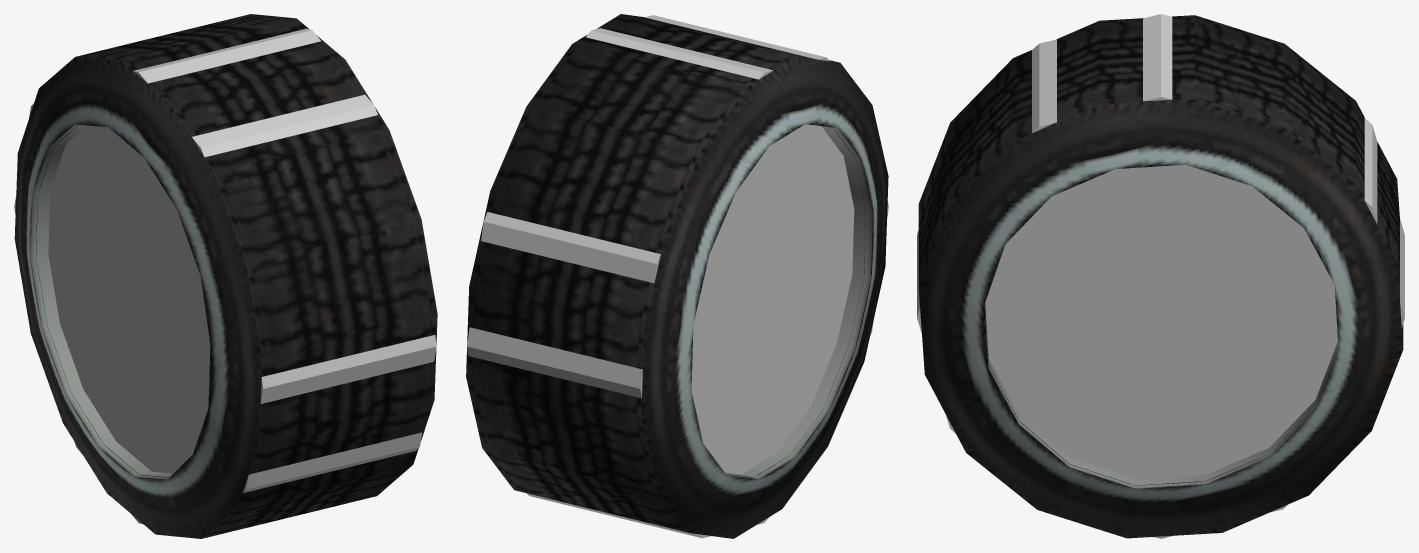
File: tire_12_out.glb
The picture shows the model from 3 angles, left to right: view 1: azimuth 30°, elevation 25°; view 2: azimuth 150°, elevation 25°; view 3: azimuth 270°, elevation 25°; orthographic projection.
Parts seen in each view (by area): view 1: Surface8, tire_rr_shadow, Surface4, Surface6, tire_fl_shadow, Surface10, Surface5, Surface9, tire_fr_shadow, Surface11; view 2: Surface4, Surface8, tire_rr_shadow, Surface6, tire_fl_shadow, Surface10, Surface11, Surface9, Surface5; view 3: tire_rr_shadow, Surface10, Surface4, Surface6, Surface8, tire_fl_shadow, Surface7, Surface11, Surface9.
Boxes of the visible parts, x1,y1,x2,y2 form: Surface8: [14, 15, 427, 538]; tire_rr_shadow: [14, 28, 436, 523]; Surface4: [81, 15, 430, 512]; Surface6: [137, 15, 431, 537]; tire_fl_shadow: [139, 30, 413, 491]; Surface10: [98, 14, 437, 505]; Surface5: [36, 125, 169, 477]; Surface9: [30, 124, 168, 479]; tire_fr_shadow: [268, 336, 429, 396]; Surface11: [36, 124, 172, 477]; Surface4: [472, 15, 811, 524]; Surface8: [472, 45, 888, 538]; tire_rr_shadow: [467, 15, 888, 538]; Surface6: [472, 45, 741, 501]; tire_fl_shadow: [473, 16, 819, 536]; Surface10: [466, 14, 738, 531]; Surface11: [725, 126, 865, 477]; Surface9: [726, 127, 872, 479]; Surface5: [725, 128, 865, 477]; tire_rr_shadow: [917, 14, 1404, 538]; Surface10: [918, 18, 1403, 538]; Surface4: [932, 17, 1403, 344]; Surface6: [918, 18, 1399, 294]; Surface8: [918, 15, 1399, 296]; tire_fl_shadow: [1032, 19, 1404, 257]; Surface7: [984, 285, 1338, 485]; Surface11: [984, 305, 1338, 488]; Surface9: [1206, 342, 1338, 480].
Size of the model in its own units: 0.319 by 0.6498 by 0.6502.
